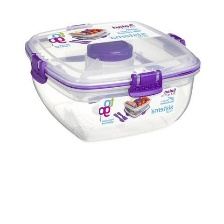plastic_box: (19, 11, 207, 148)
